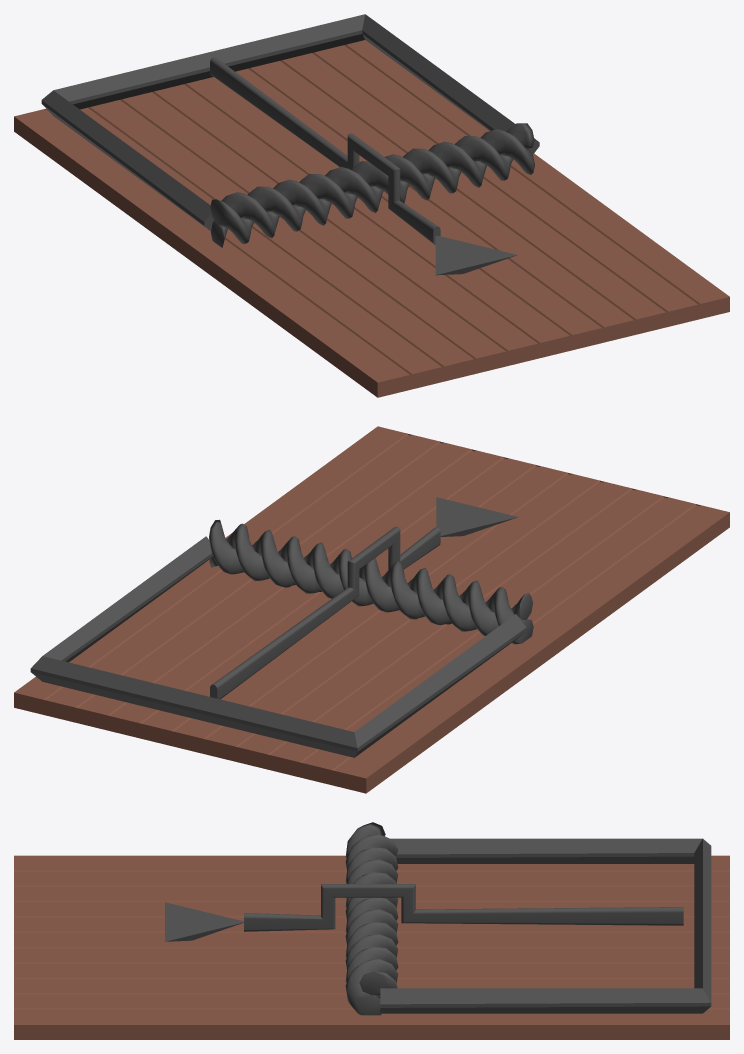
File: MouseTrap.fbx
3 views of the same model, one above another, from view 1: azimuth 30°, elevation 25°; view 2: azimuth 150°, elevation 25°; view 3: azimuth 270°, elevation 25° (orthographic).
Visible parts, largest first — view 1: Base, Handle, Cylinder, Handle2, ChesseHolder; view 2: Base, Handle, Cylinder, Handle2, ChesseHolder; view 3: Base, Handle, Cylinder, Handle2, ChesseHolder.
Part boxes in pixels (x1,y1,x2,y2): Base: (14,40,729,397); Handle: (41,14,539,230); Cylinder: (210,123,534,247); Handle2: (210,57,440,244); ChesseHolder: (435,235,517,275); Base: (14,426,729,793); Handle: (30,536,526,757); Cylinder: (209,519,533,644); Handle2: (210,526,440,699); ChesseHolder: (436,497,518,536); Base: (14,855,729,1039); Handle: (380,838,711,1013); Cylinder: (345,822,398,1015); Handle2: (244,884,683,931); ChesseHolder: (165,902,243,941).
Size of the model in its own units: 200 by 39.11 by 358.
